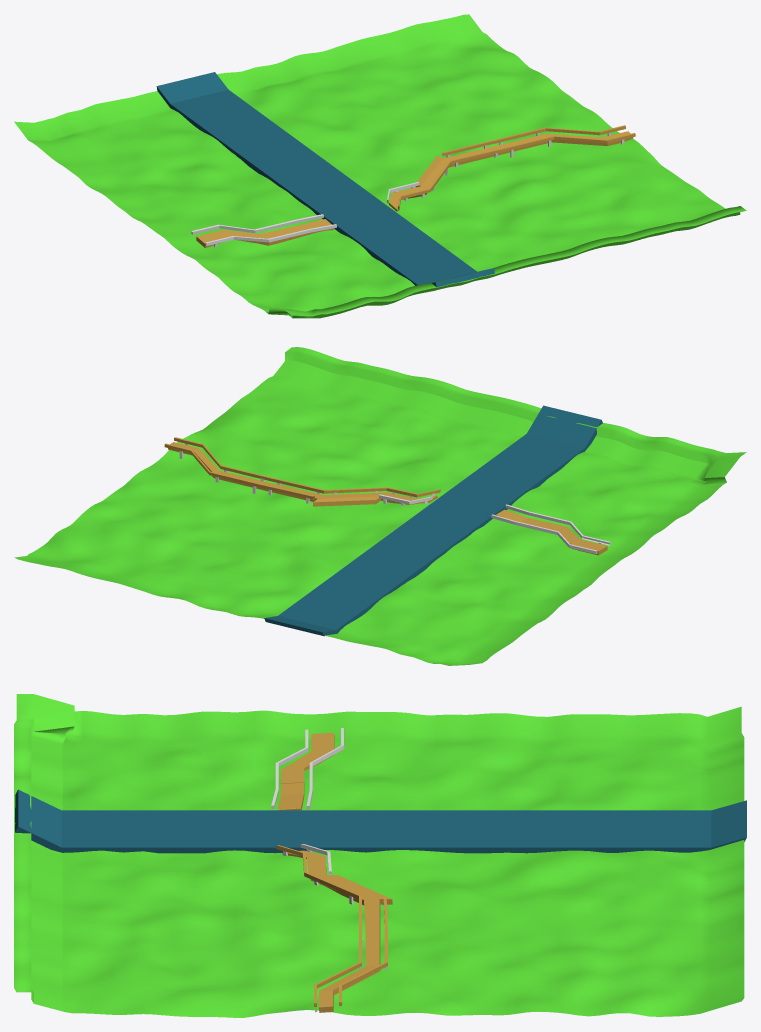
The model's file is parkedited.dae.
3 renders of one model, top to bottom at view 1: azimuth 30°, elevation 25°; view 2: azimuth 150°, elevation 25°; view 3: azimuth 270°, elevation 25°, orthographic. The views are drawn at different scales.
Parts seen in each view (by area): view 1: Plane, Plane_002, Cube_025, Cube_003, Cube_001_001, Cube_002, Cube_003_001; view 2: Plane, Plane_002, Cube_025, Cube_003, Cube_001_001; view 3: Plane, Plane_002, Cube_025, Cube_003, Cube_001_001, Cube_001.
Boxes of the visible parts, x1=… form: Plane: x1=14, y1=14, x2=746, y2=318; Plane_002: x1=156, y1=72, x2=494, y2=289; Cube_025: x1=389, y1=131, x2=633, y2=211; Cube_003: x1=398, y1=125, x2=635, y2=209; Cube_001_001: x1=196, y1=229, x2=289, y2=247; Cube_002: x1=191, y1=214, x2=323, y2=234; Cube_003_001: x1=205, y1=224, x2=336, y2=245; Plane: x1=14, y1=347, x2=746, y2=665; Plane_002: x1=264, y1=405, x2=602, y2=636; Cube_025: x1=168, y1=442, x2=437, y2=506; Cube_003: x1=164, y1=437, x2=440, y2=499; Cube_001_001: x1=538, y1=521, x2=607, y2=555; Plane: x1=14, y1=694, x2=744, y2=1017; Plane_002: x1=15, y1=789, x2=746, y2=853; Cube_025: x1=282, y1=850, x2=392, y2=1012; Cube_003: x1=276, y1=845, x2=387, y2=1006; Cube_001_001: x1=281, y1=732, x2=334, y2=783; Cube_001: x1=277, y1=782, x2=304, y2=810.
Bounding box in the file's own units: 135 × 142 × 7.19.
